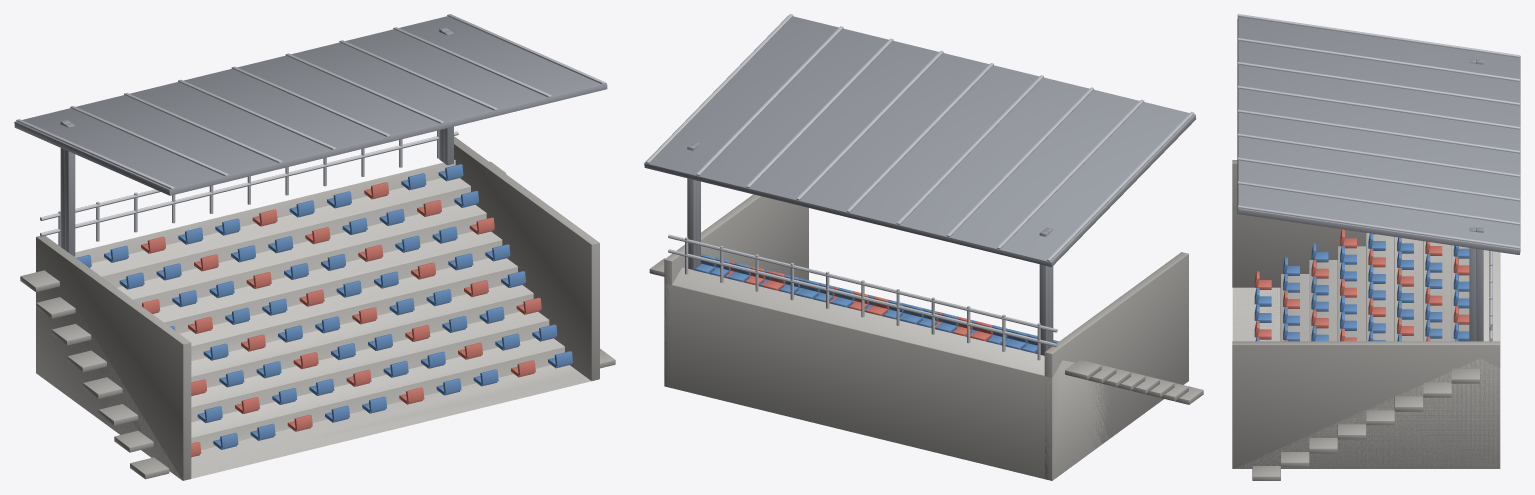
The model's file is th44_tribuene.glb.
The picture shows the model from 3 angles, left to right: view 1: azimuth 30°, elevation 25°; view 2: azimuth 150°, elevation 25°; view 3: azimuth 270°, elevation 25°; orthographic projection. The views are drawn at different scales.
Parts seen in each view (by area): view 1: Stufenkoerper, Cube.182, Cube.176, Cube.177, Cylinder.001, Cube.178, Cube.189, Cube.190, Cube.183, Cube.184, Cube.186, Cube.188 (+3 smaller); view 2: Cube.182, Stufenkoerper, Cube.176, Cube.177, Cylinder.001, Cylinder, Cube.181, Cube.179, Cube.184, Cube.187, Cube.190, Cube.185 (+5 smaller); view 3: Cube.182, Cube.177, Stufenkoerper, Cube.176, Cube.187, Cube.189, Cube.183, Cube.184, Cube.185, Cube.186, Cube.188, Cube.190 (+11 smaller).
Part boxes in pixels (bbox=[...]): Stufenkoerper: bbox=[59, 160, 591, 480]; Cube.182: bbox=[14, 16, 607, 195]; Cube.176: bbox=[36, 236, 191, 480]; Cube.177: bbox=[454, 136, 599, 380]; Cylinder.001: bbox=[40, 131, 458, 236]; Cube.178: bbox=[64, 123, 75, 256]; Cube.189: bbox=[339, 40, 497, 110]; Cube.190: bbox=[393, 27, 551, 97]; Cube.183: bbox=[16, 119, 174, 189]; Cube.184: bbox=[70, 106, 228, 176]; Cube.186: bbox=[178, 79, 336, 150]; Cube.188: bbox=[285, 53, 443, 123]; Cube.182: bbox=[644, 15, 1195, 266]; Stufenkoerper: bbox=[664, 267, 1188, 480]; Cube.176: bbox=[1044, 252, 1188, 480]; Cube.177: bbox=[664, 194, 808, 387]; Cylinder.001: bbox=[668, 249, 1057, 347]; Cylinder: bbox=[668, 234, 1057, 332]; Cube.181: bbox=[687, 144, 697, 269]; Cube.179: bbox=[1039, 230, 1049, 355]; Cube.184: bbox=[997, 99, 1144, 249]; Cube.187: bbox=[846, 63, 993, 212]; Cube.190: bbox=[696, 26, 843, 175]; Cube.185: bbox=[946, 87, 1093, 236]; Cube.182: bbox=[1237, 17, 1520, 254]; Cube.177: bbox=[1232, 341, 1500, 468]; Stufenkoerper: bbox=[1232, 233, 1500, 468]; Cube.176: bbox=[1232, 160, 1366, 287]; Cube.187: bbox=[1237, 109, 1520, 153]; Cube.189: bbox=[1237, 157, 1520, 201]; Cube.183: bbox=[1237, 14, 1520, 57]; Cube.184: bbox=[1237, 38, 1520, 81]; Cube.185: bbox=[1237, 62, 1520, 105]; Cube.186: bbox=[1237, 85, 1520, 129]; Cube.188: bbox=[1237, 133, 1520, 177]; Cube.190: bbox=[1237, 181, 1520, 225].
Bounding box in the file's own units: 13.54 × 8.06 × 7.9.
